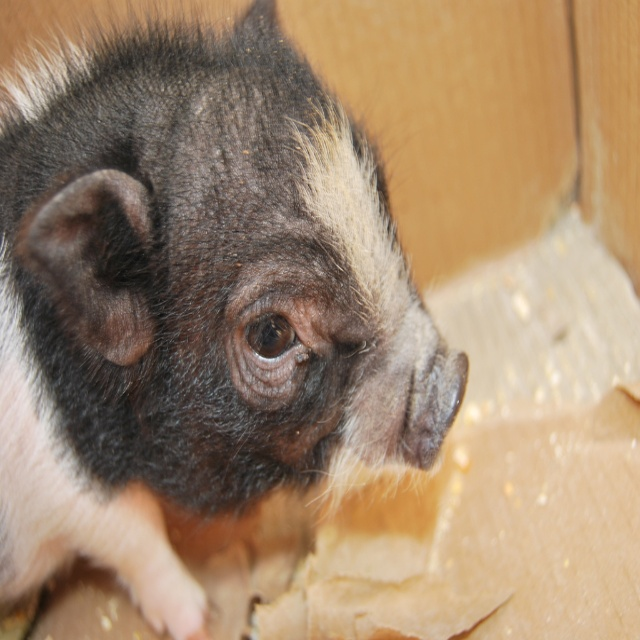Pig: (0, 0, 469, 639)
